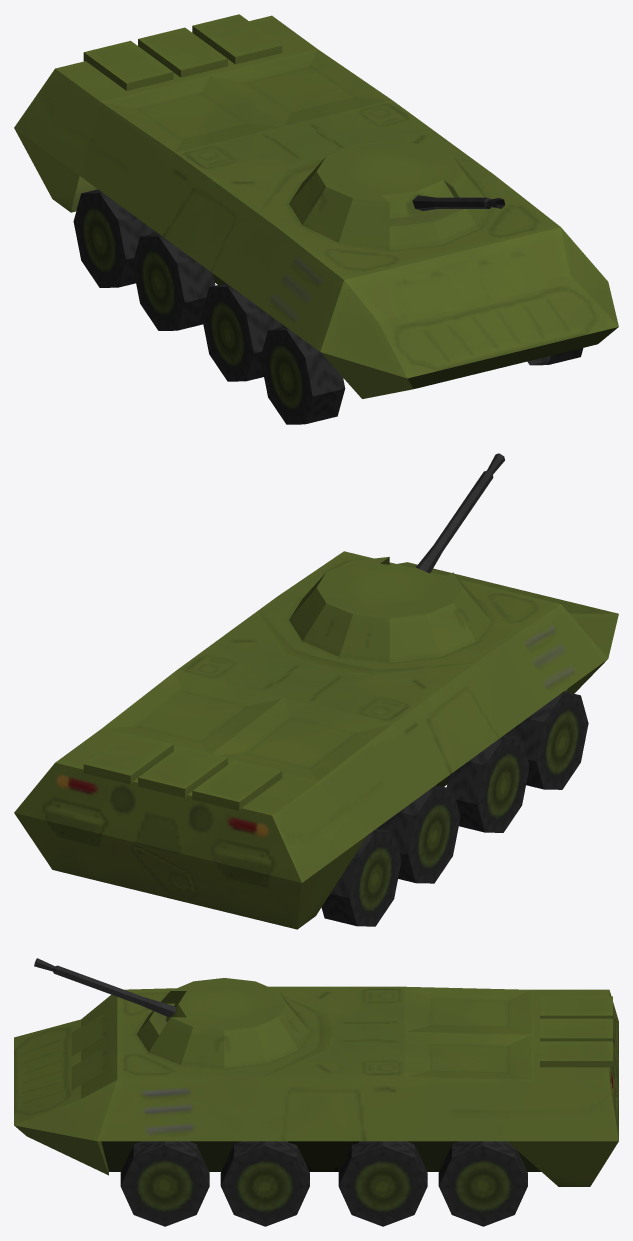
Rendered from LPBTR.fbx.
The picture shows the model from 3 angles, top to bottom: view 1: azimuth 30°, elevation 25°; view 2: azimuth 150°, elevation 25°; view 3: azimuth 270°, elevation 25°; orthographic projection. The views are drawn at different scales.
Visible parts, largest first — view 1: Body, Tire10, Tire8, Tire9, Tire7; view 2: Body, Tire9, Tire8, Tire10, Tire7; view 3: Body, Tire11, Tire5, Tire6, Tire.
Boxes of the visible parts, x1,y1,x2,y2 form: Body: (14, 14, 618, 398); Tire10: (260, 326, 345, 424); Tire8: (132, 232, 215, 330); Tire9: (201, 283, 282, 381); Tire7: (73, 189, 154, 287); Body: (14, 453, 618, 929); Tire9: (446, 734, 529, 832); Tire8: (379, 785, 460, 883); Tire10: (507, 691, 588, 789); Tire7: (321, 828, 401, 926); Body: (14, 958, 618, 1186); Tire11: (120, 1141, 209, 1226); Tire5: (338, 1141, 427, 1226); Tire6: (220, 1141, 309, 1226); Tire: (438, 1141, 527, 1226).
Size of the model in its own units: 29.24 by 24.07 by 62.46.
